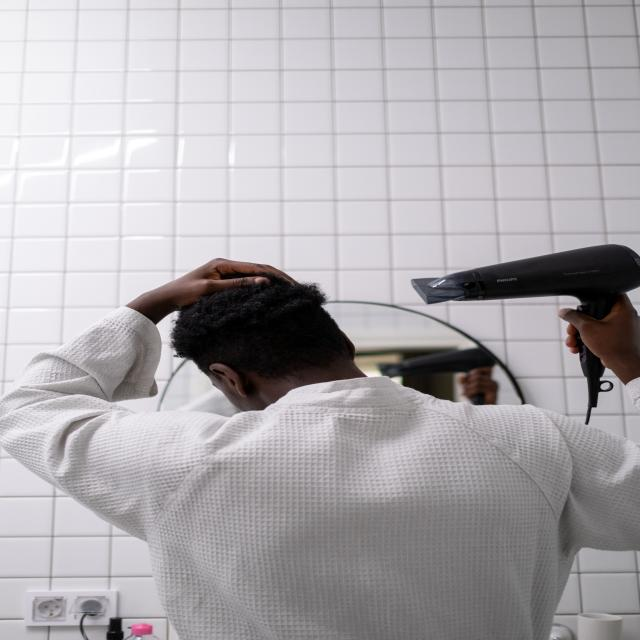dryer: (408, 242, 640, 408), (378, 343, 502, 408)
